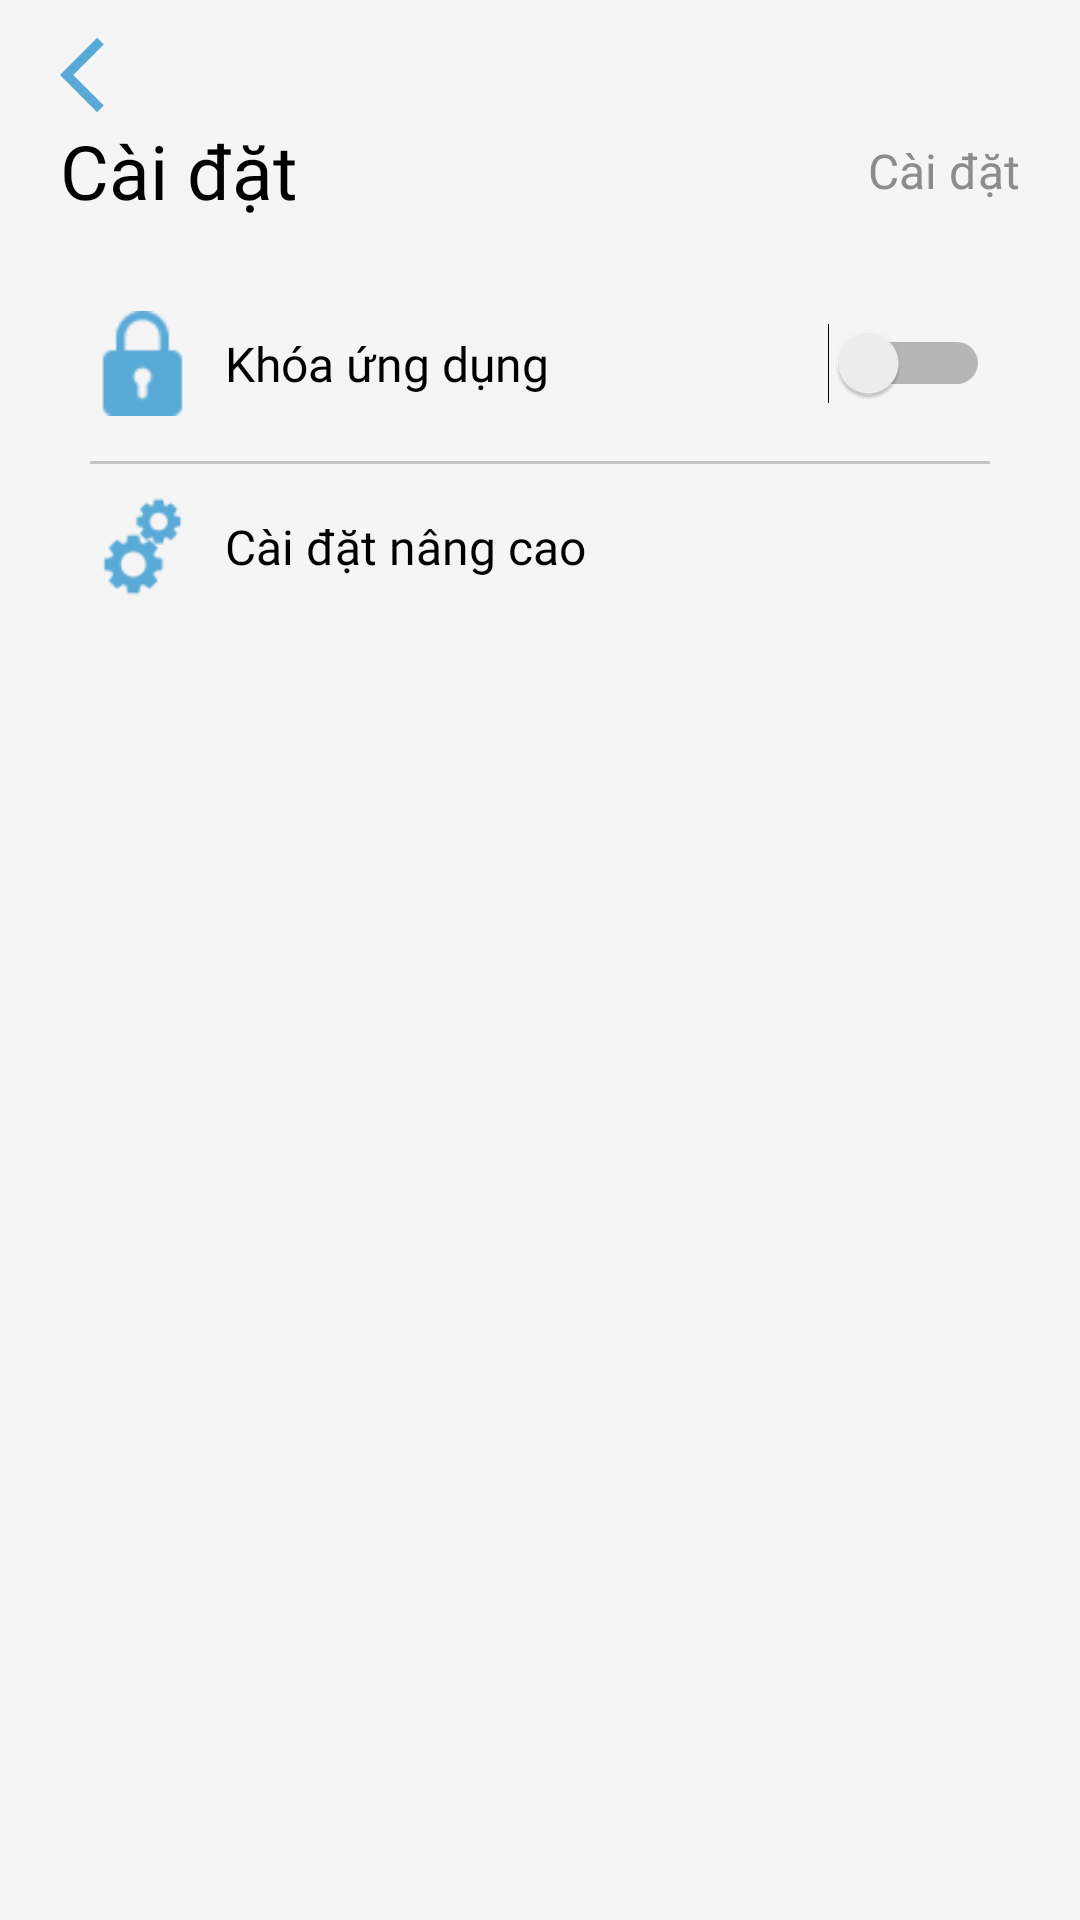

Screen size 1080w x 1920h. Icon name, then its box in pixels as (x1, y1, x2, y2):
advance setting: (104, 498, 181, 595)
back toolbar: (60, 38, 104, 112)
lockapp: (102, 311, 183, 416)
